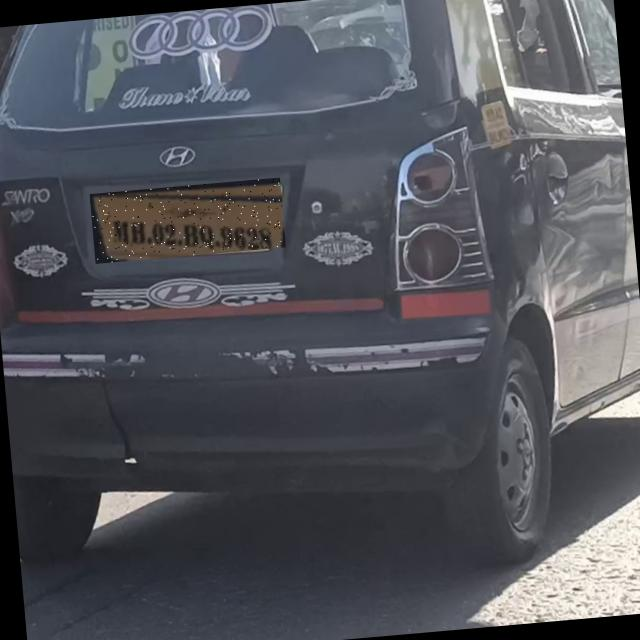Plate: (91, 178, 287, 264)
